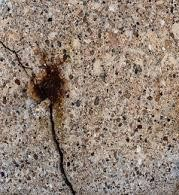Corrosion: (33, 63, 67, 104)
Crack: (1, 40, 76, 195)
